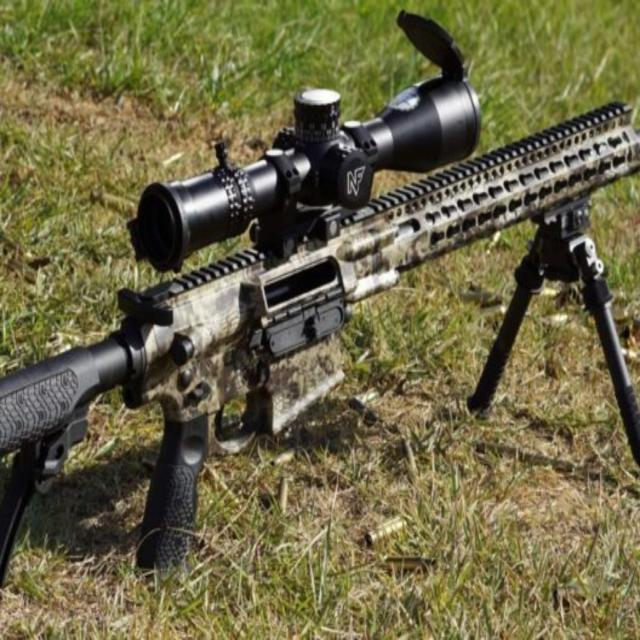Rifle: (0, 14, 640, 592)
